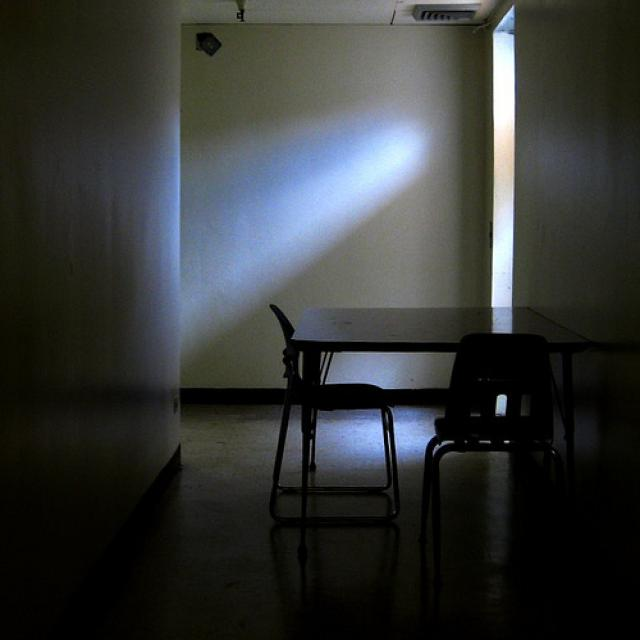Table: (300, 281, 610, 385)
chair: (267, 314, 404, 527), (422, 327, 578, 500)
